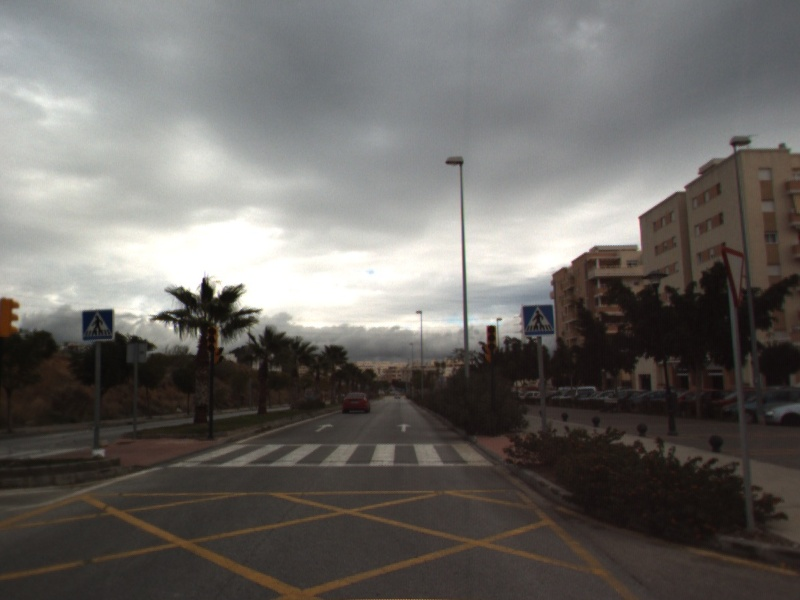STRAIGHT: (313, 421, 335, 434), (396, 421, 413, 433)
